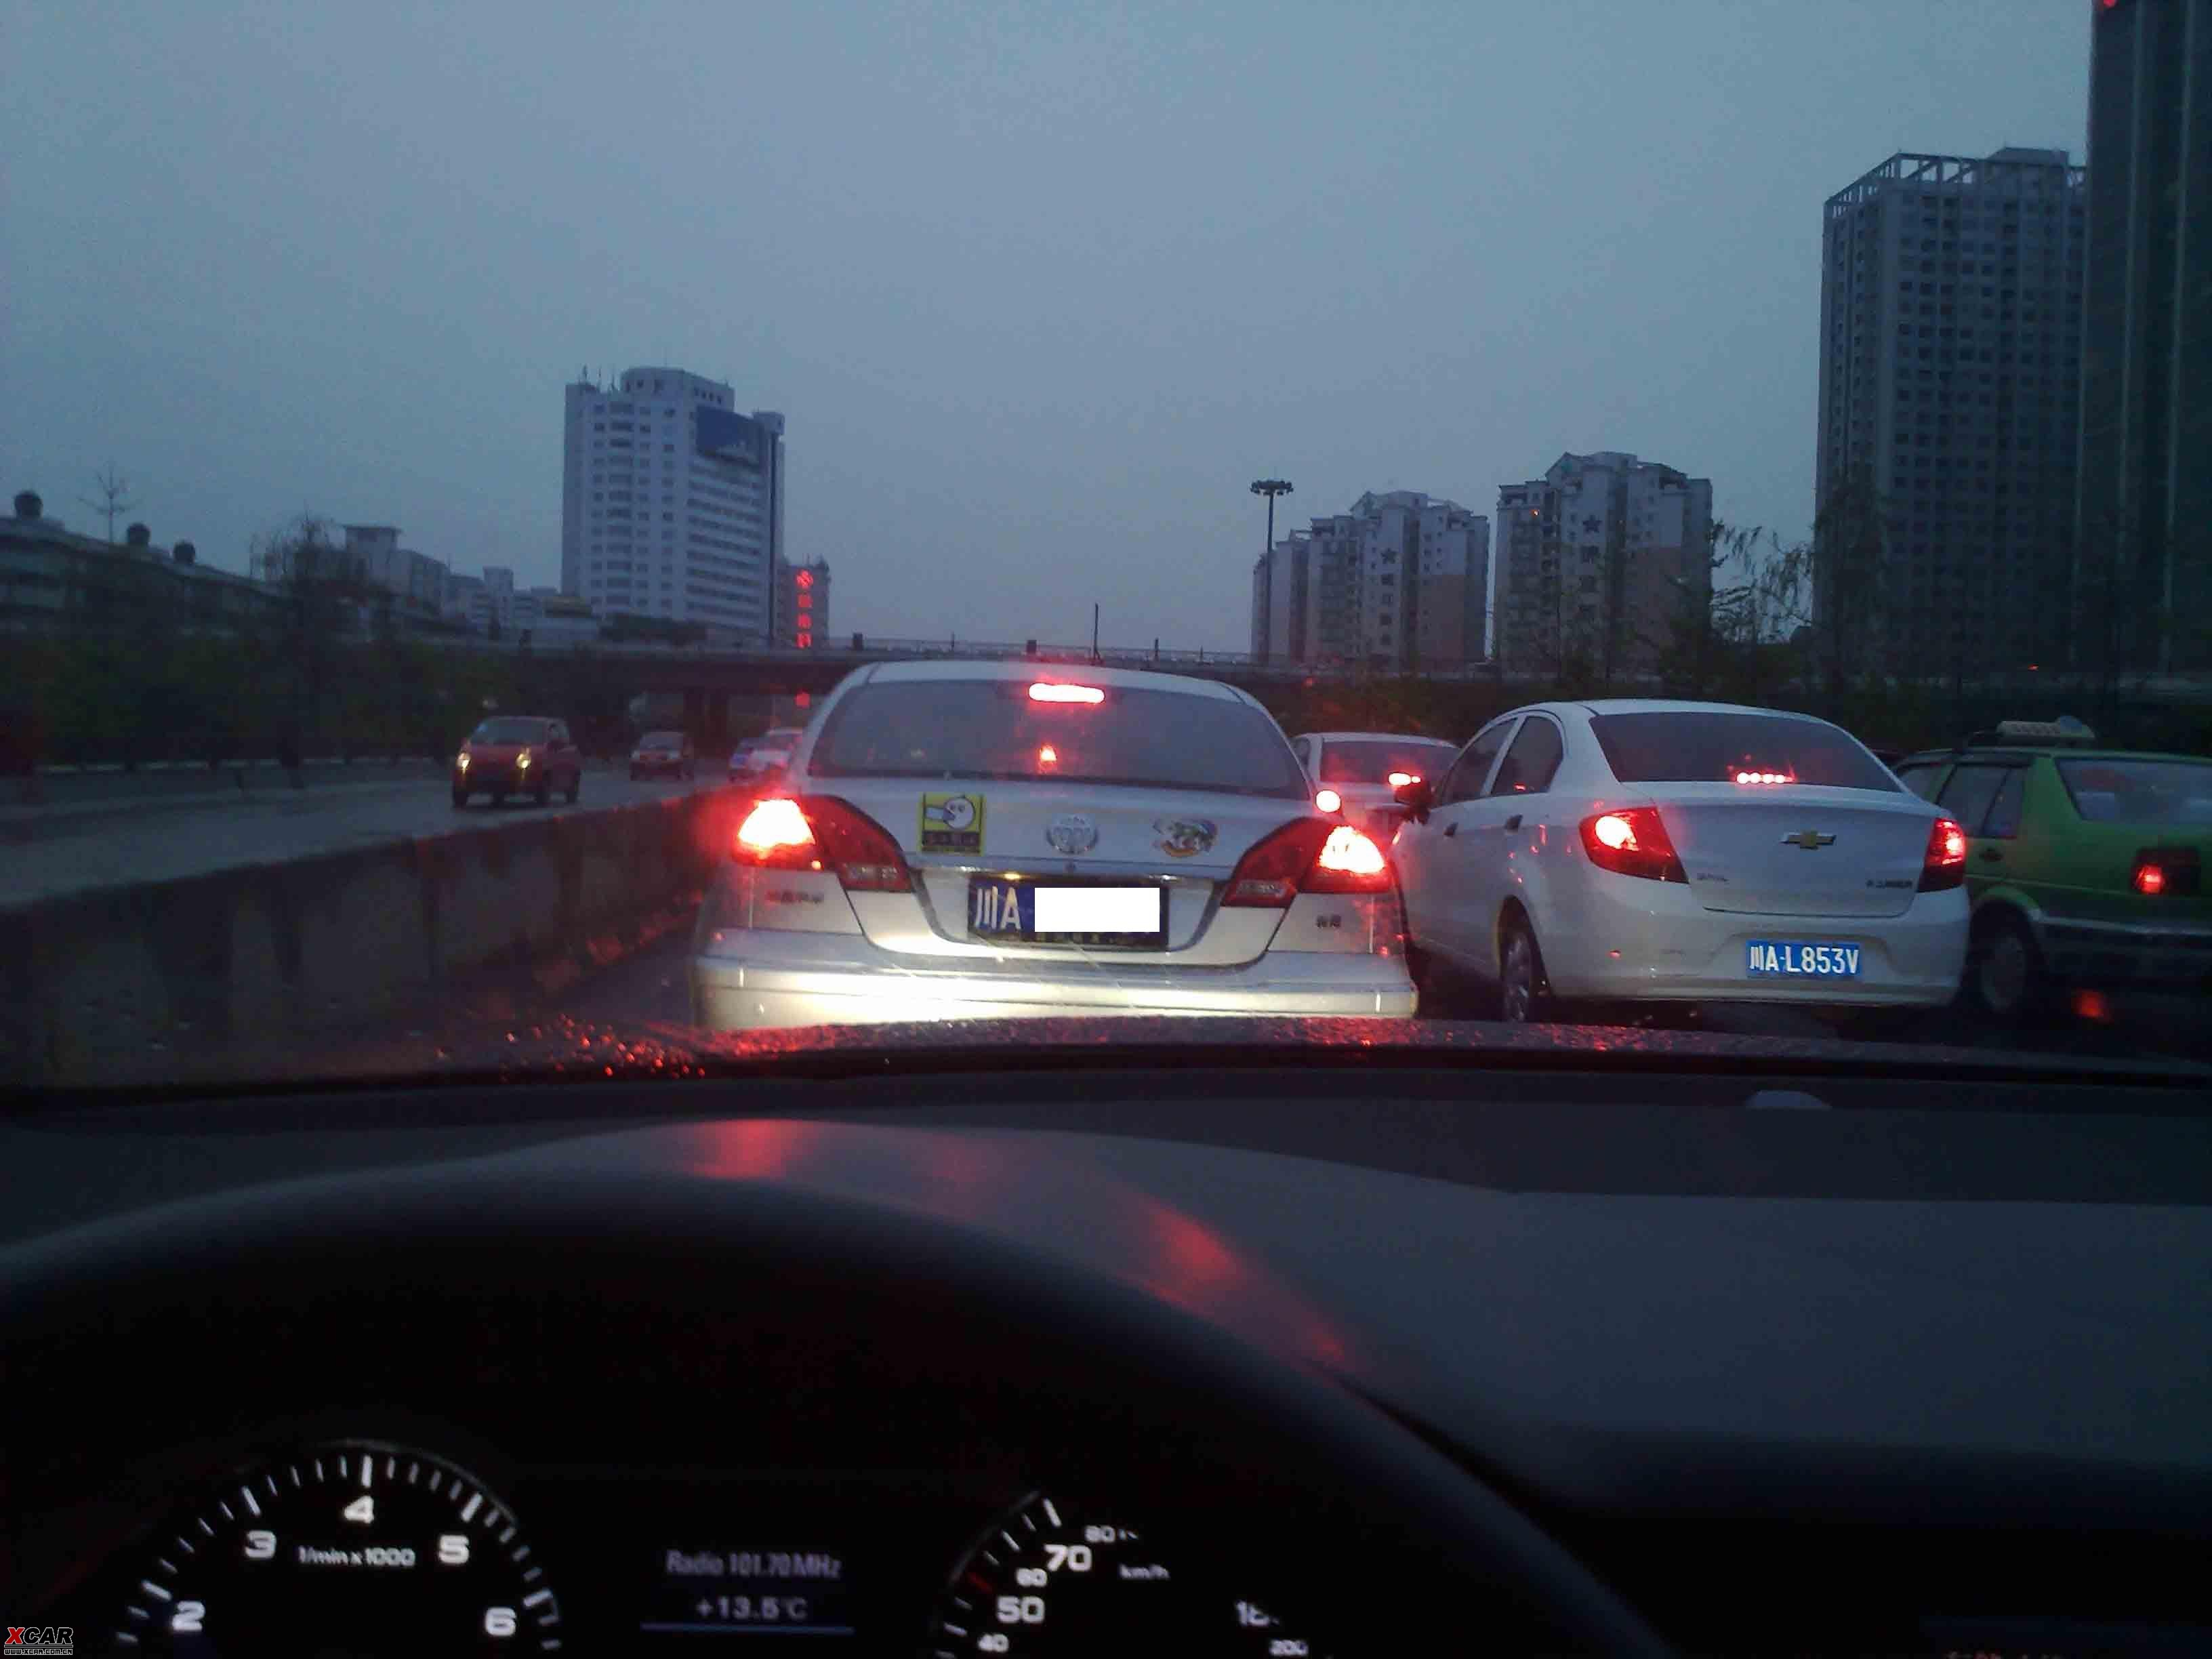car: (686, 631, 1411, 1021), (1442, 683, 1947, 1016)
